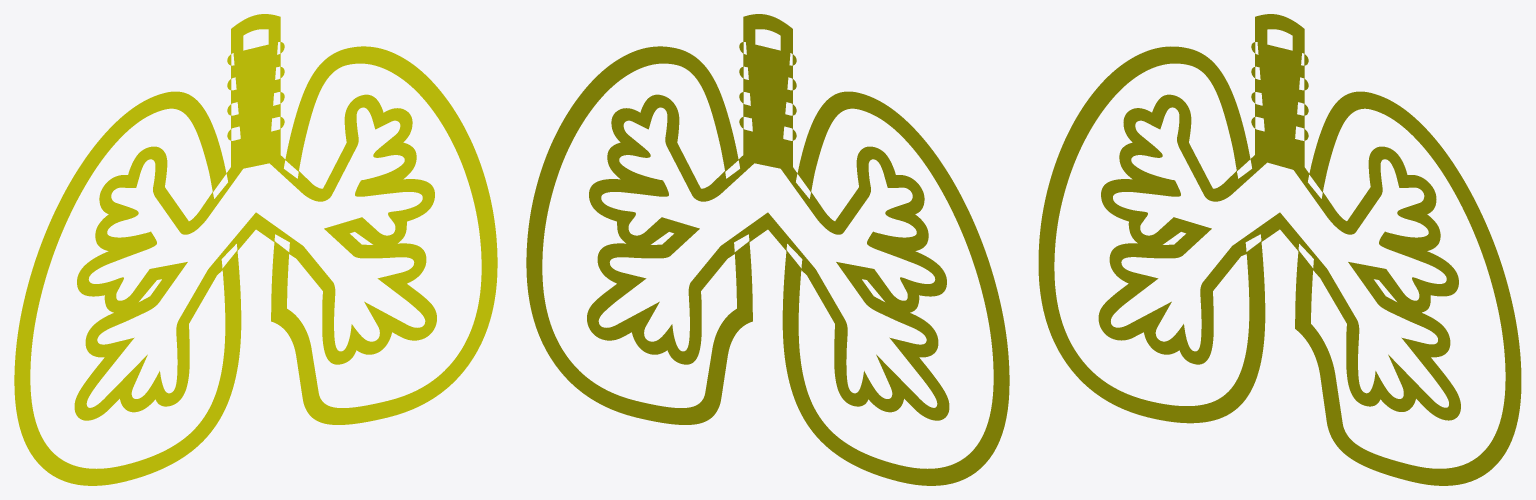
The model's file is lungs.glb.
3 renders of one model, left to right at view 1: azimuth 30°, elevation 25°; view 2: azimuth 150°, elevation 25°; view 3: azimuth 330°, elevation 25°, orthographic.
Parts seen in each view (by area): view 1: Text.1025_1025; view 2: Text.1025_1025; view 3: Text.1025_1025.
Part boxes in pixels (x1,y1,x2,y2): Text.1025_1025: (14,14,497,485); Text.1025_1025: (526,14,1009,485); Text.1025_1025: (1038,14,1521,485).
Size of the model in its own units: 1.18 by 1.02 by 3.6e-06.
